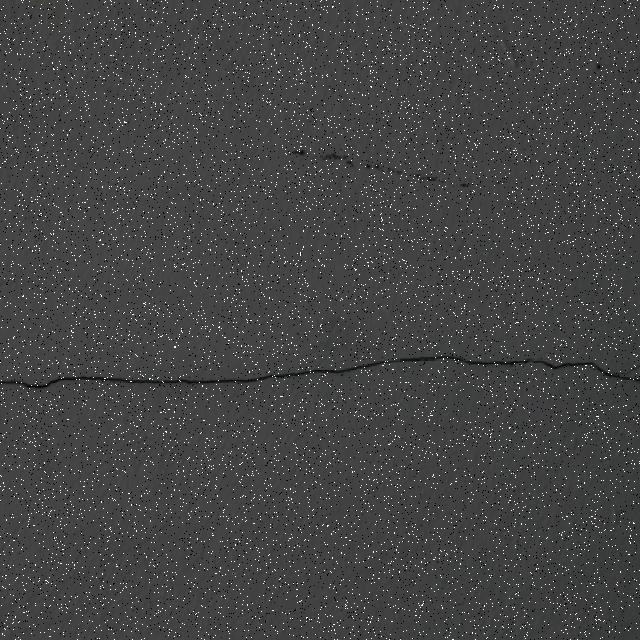minor crack: (546, 358, 636, 378), (6, 374, 111, 387), (523, 357, 562, 370)
moderate crack: (5, 356, 639, 389)
